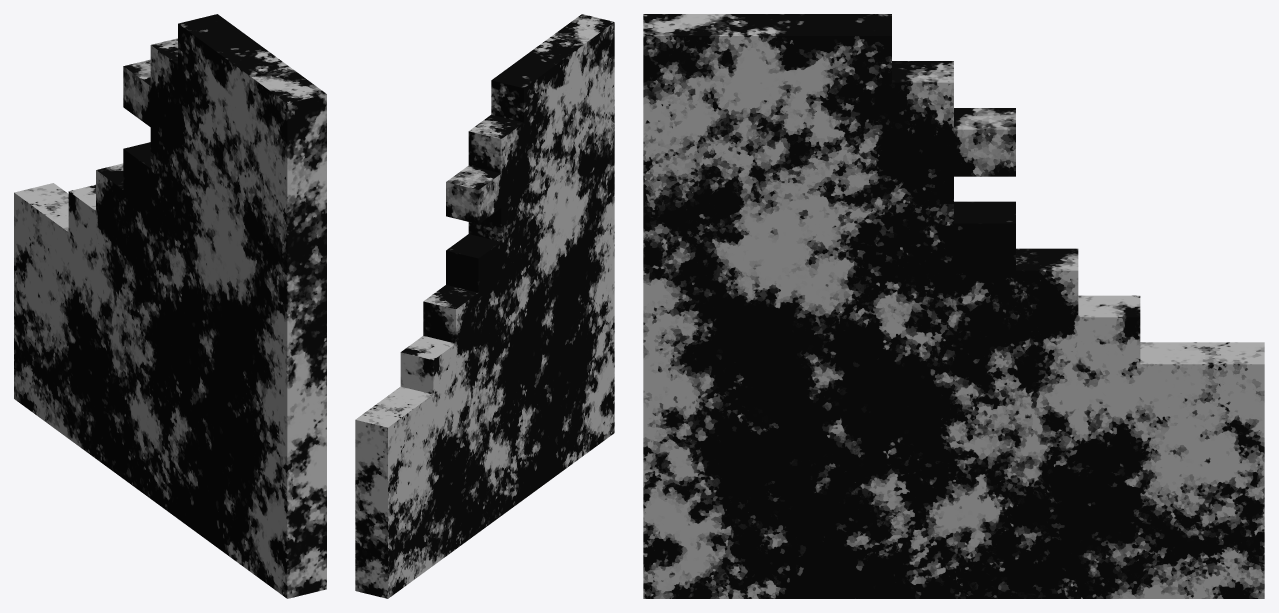
The model's file is SM_Wall_Ruins_01.fbx.
3 renders of one model, left to right at view 1: azimuth 30°, elevation 25°; view 2: azimuth 150°, elevation 25°; view 3: azimuth 270°, elevation 25°, orthographic. The views are drawn at different scales.
Visible parts, largest first — view 1: SM_Wall_Ruins_01_LOD0; view 2: SM_Wall_Ruins_01_LOD0; view 3: SM_Wall_Ruins_01_LOD0.
Boxes of the visible parts, left/top/right/bottom form: SM_Wall_Ruins_01_LOD0: left=14, top=14, right=326, bottom=598; SM_Wall_Ruins_01_LOD0: left=355, top=14, right=614, bottom=598; SM_Wall_Ruins_01_LOD0: left=643, top=14, right=1264, bottom=598.
Size of the model in its own units: 50 by 600 by 600.
Materials: 1 (1 with a texture image).
